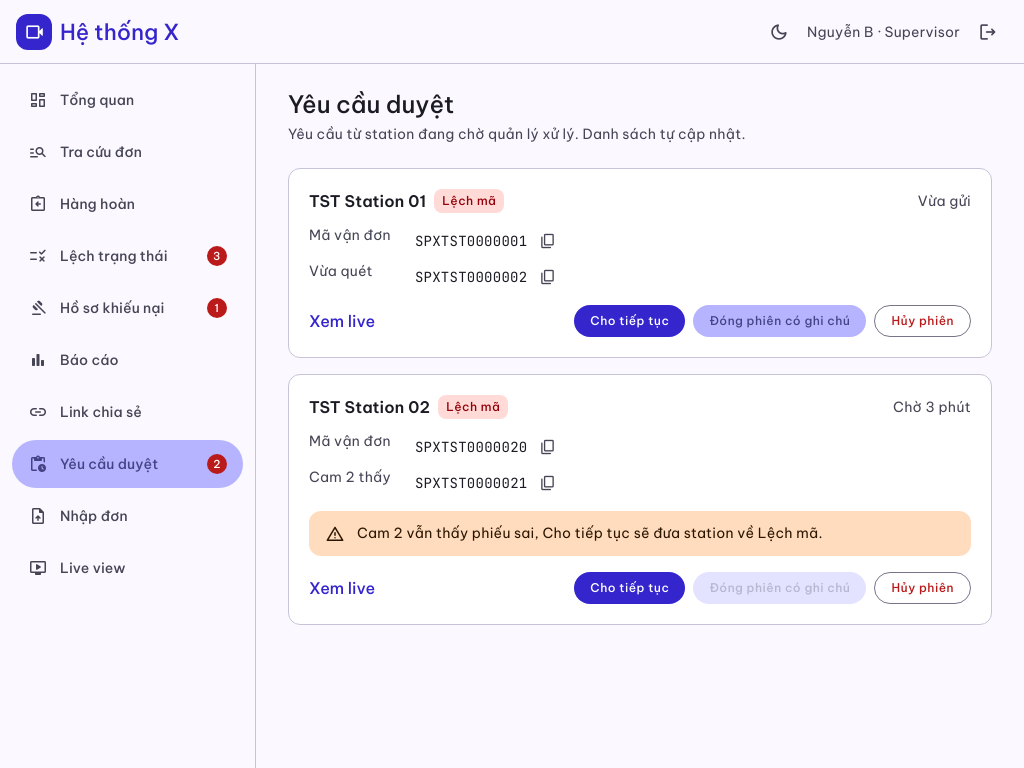
TC-03.40: Lệch mã — thẻ đủ thông tin, badge, Cho tiếp tục → station về ĐANG ĐÓNG GÓI
Expected: the text "Lệch mã" next to "TST Station 01" is shown, [442,193,496,208]
Expected: the text "SPXTST0000001" is shown, [415,231,527,251]
Click the button "Cho tiếp tục" below "SPXTST0000002": (630, 321) [574,305,685,337]
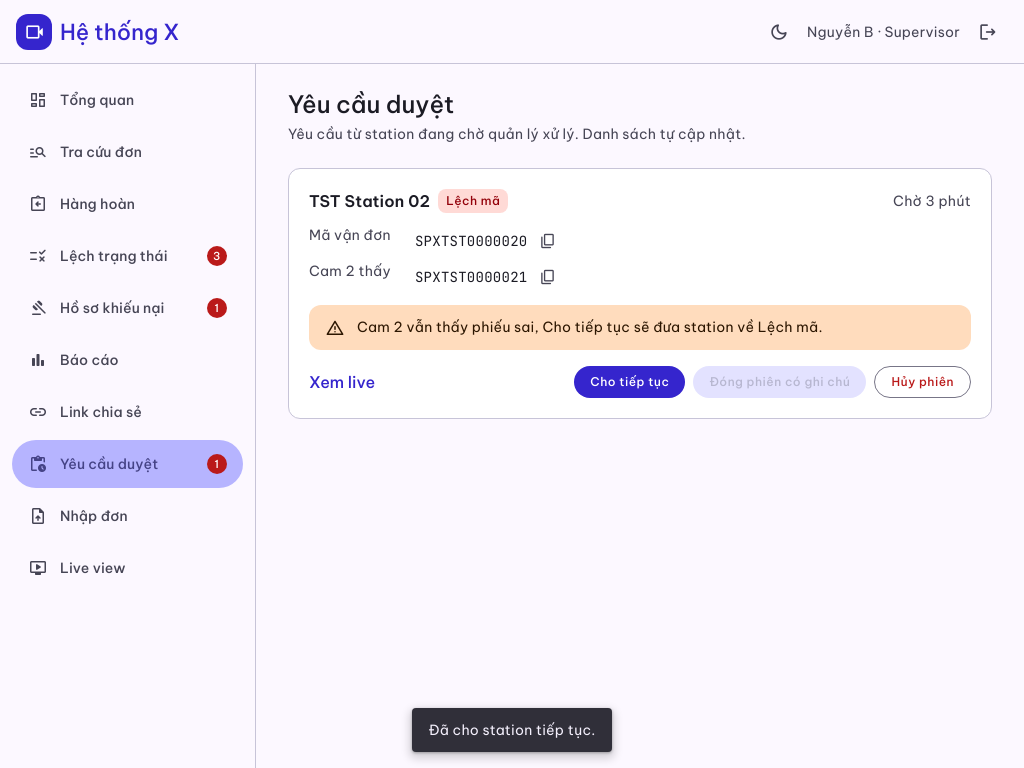
Expected: the link "Yêu cầu duyệt 1" is shown, [12,440,243,488]
Now the text "Đã cho station tiếp tục." is shown, box [412,708,612,752]
Now the heading "TST Station 01" is gone
